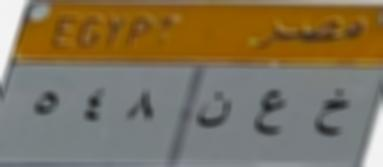4: (79, 82, 111, 132)
5: (28, 88, 70, 122)
8: (124, 83, 160, 128)
ain: (248, 80, 292, 142)
khaa: (306, 83, 360, 145)
noon: (191, 84, 238, 138)
